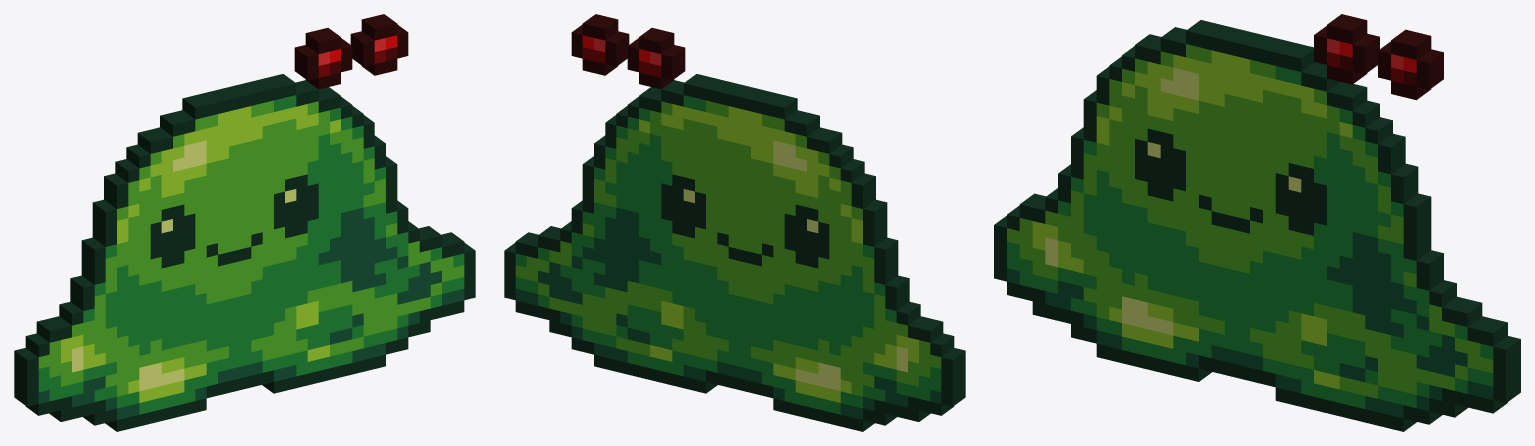
Rendered from Slime_Not_Detected_02.obj.
3 views of the same model, side by side, from view 1: azimuth 30°, elevation 25°; view 2: azimuth 150°, elevation 25°; view 3: azimuth 330°, elevation 25° (orthographic). The views are drawn at different scales.
Size of the model in its own units: 4 by 2.9 by 0.2.
1 material, 1 textured.
